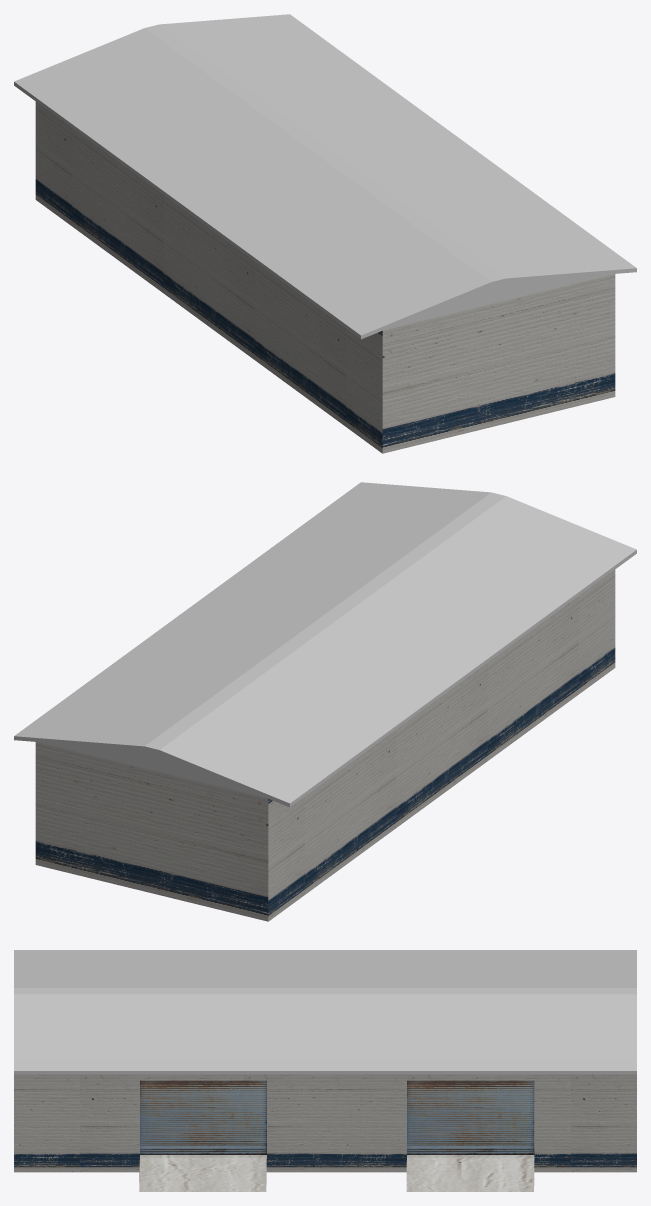
Rendered from house 1.fbx.
The picture shows the model from 3 angles, top to bottom: view 1: azimuth 30°, elevation 25°; view 2: azimuth 150°, elevation 25°; view 3: azimuth 270°, elevation 25°; orthographic projection. The views are drawn at different scales.
Parts seen in each view (by area): view 1: pCube1; view 2: pCube1; view 3: pCube1.
Boxes of the visible parts, <box> form: pCube1: <box>14,14,636,453</box>; pCube1: <box>14,482,636,921</box>; pCube1: <box>14,950,636,1191</box>.
Bounding box in the file's own units: 0.0758 × 0.0352 × 0.1524.
